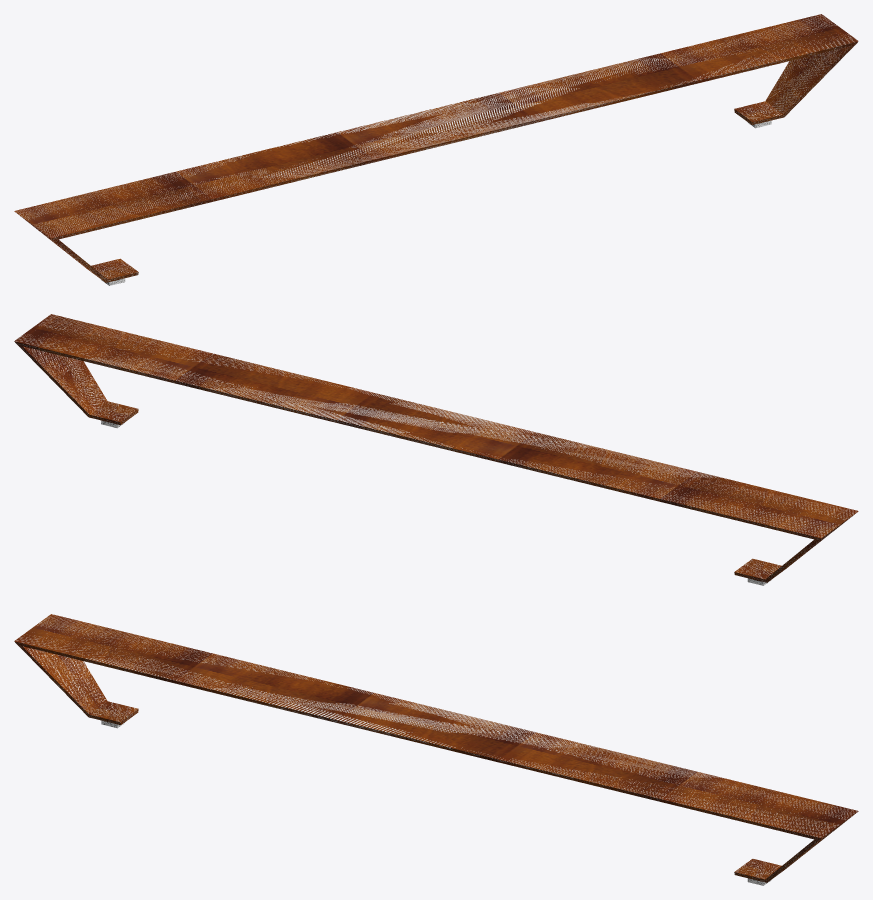
3 renders of one model, top to bottom at view 1: azimuth 30°, elevation 25°; view 2: azimuth 150°, elevation 25°; view 3: azimuth 330°, elevation 25°, orthographic.
Visible parts, largest first — view 1: mesh1_mesh1-geometry; view 2: mesh1_mesh1-geometry; view 3: mesh1_mesh1-geometry.
Boxes of the visible parts, left/top/right/bottom form: mesh1_mesh1-geometry: left=14, top=14, right=858, bottom=285; mesh1_mesh1-geometry: left=14, top=314, right=858, bottom=585; mesh1_mesh1-geometry: left=14, top=614, right=858, bottom=885.
Size of the model in its own units: 0.9928 by 0.0894 by 0.0794.
